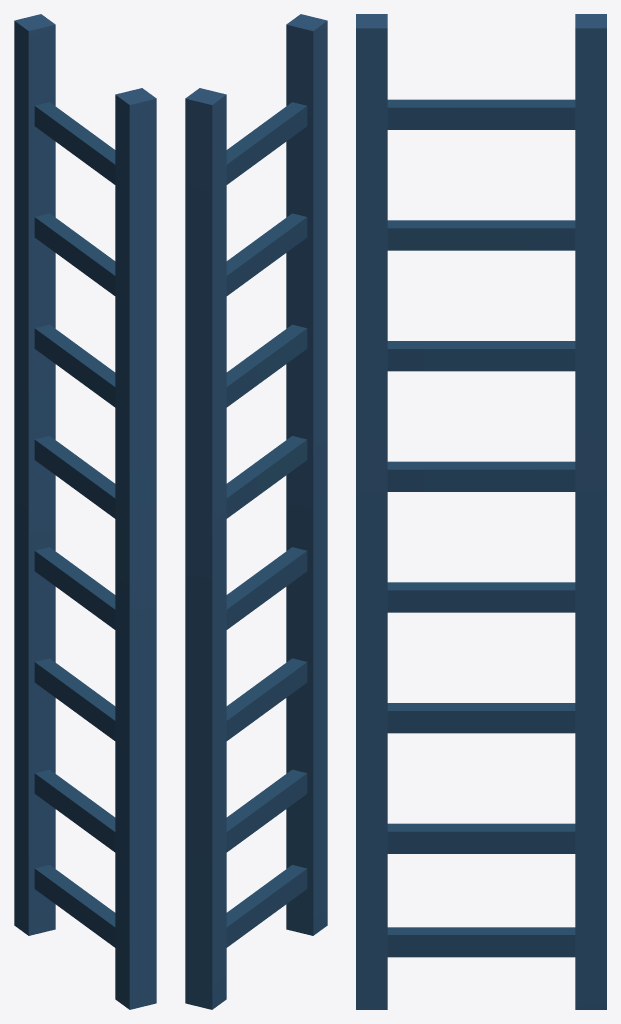
The model's file is FireEscape_D_3.fbx.
3 renders of one model, left to right at view 1: azimuth 30°, elevation 25°; view 2: azimuth 150°, elevation 25°; view 3: azimuth 270°, elevation 25°, orthographic. The views are drawn at different scales.
Visible parts, largest first — view 1: FireEscape_D_3; view 2: FireEscape_D_3; view 3: FireEscape_D_3.
Part boxes in pixels (x1,y1,x2,y2): FireEscape_D_3: (14,14,156,1009); FireEscape_D_3: (185,14,327,1009); FireEscape_D_3: (356,14,606,1009).
Bounding box in the file's own units: 9.26 × 296 × 68.63.
